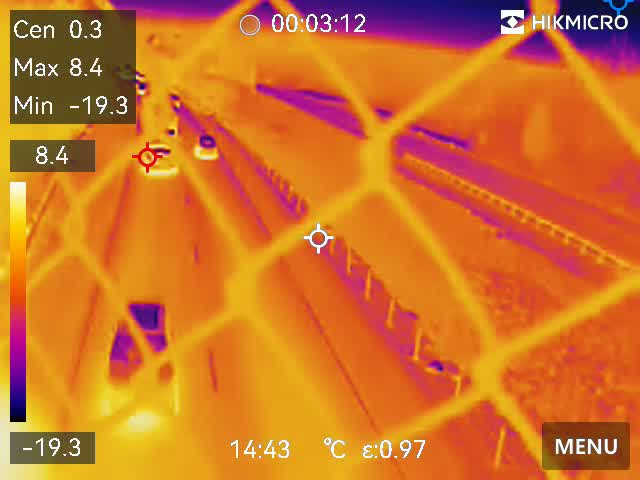vehicle: (92, 286, 189, 422), (131, 139, 179, 182), (187, 129, 223, 167)
